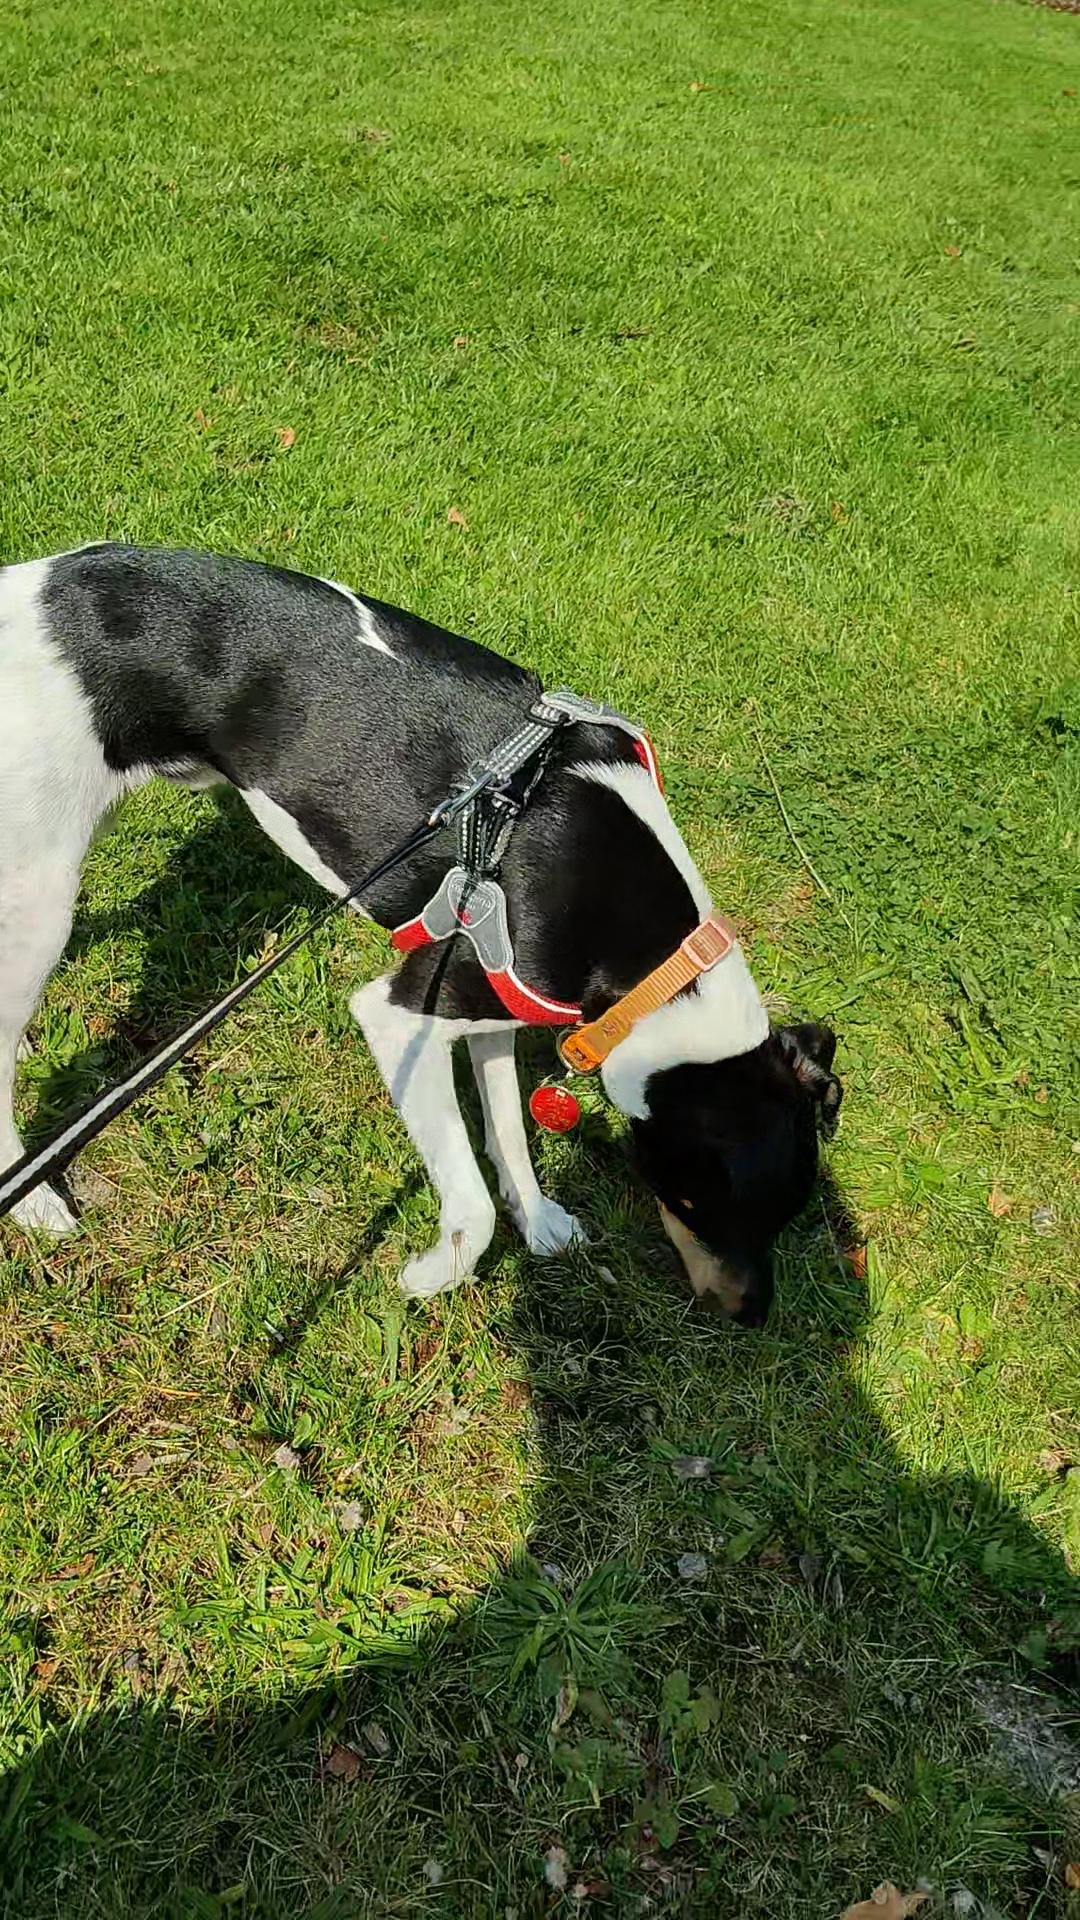Dog: (0, 524, 844, 1365)
